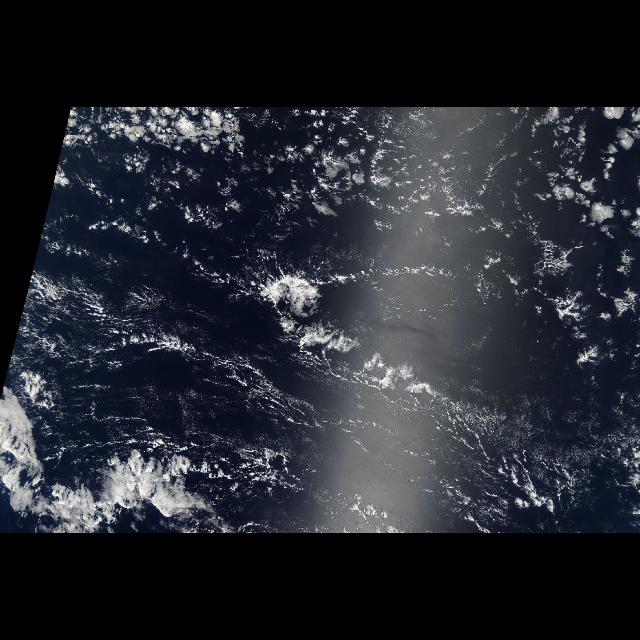Fish: (248, 253, 454, 412)
Sugar: (480, 373, 630, 495)
